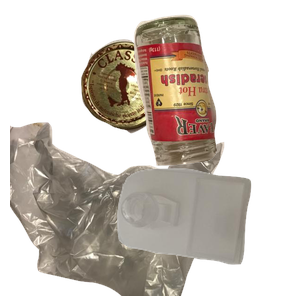glass: (131, 12, 300, 170)
metal: (78, 37, 243, 163)
plastic: (115, 166, 300, 300)
trash: (10, 120, 231, 300)
